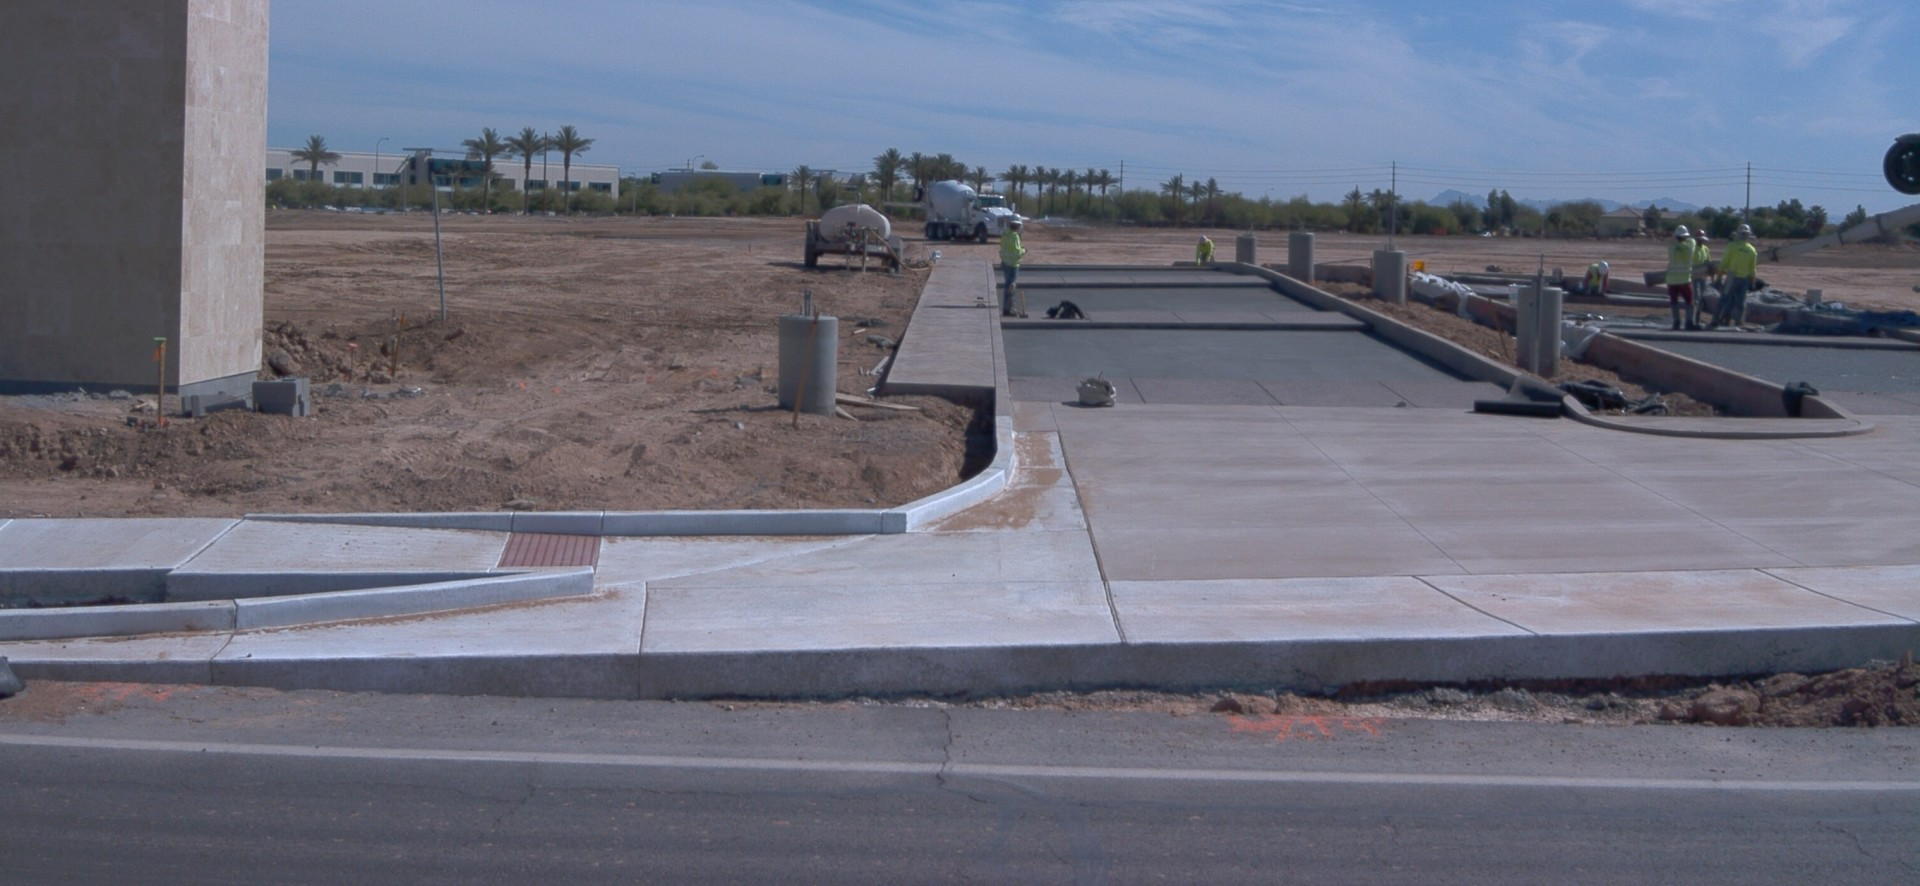TYPE_PEDESTRIAN: (1700, 221, 1760, 336), (1663, 221, 1703, 333), (998, 212, 1030, 321), (1715, 227, 1747, 331), (1684, 228, 1714, 330), (1579, 258, 1613, 297), (1194, 233, 1218, 269)
TYPE_VEHICLE: (1640, 131, 1920, 322), (800, 200, 904, 274), (909, 177, 1022, 243), (1020, 213, 1034, 223)
